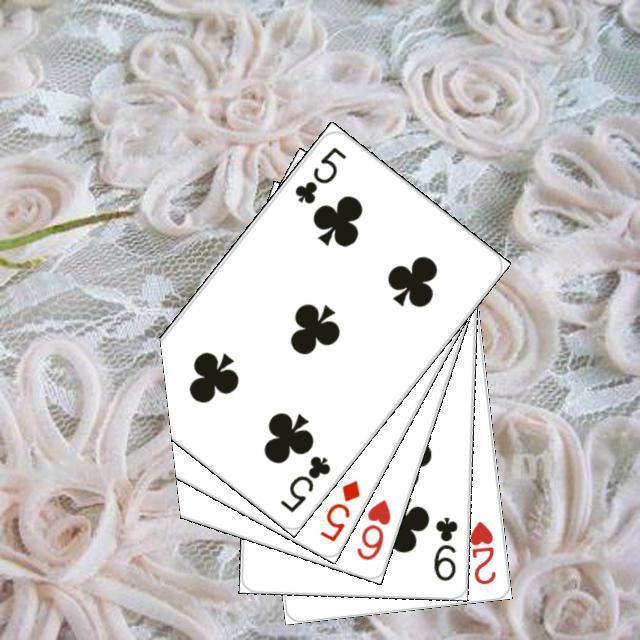2h: (464, 516, 498, 587)
5c: (289, 141, 348, 206), (275, 450, 332, 514)
5d: (314, 475, 362, 543)
6h: (351, 494, 393, 562)
9c: (429, 512, 459, 582)
